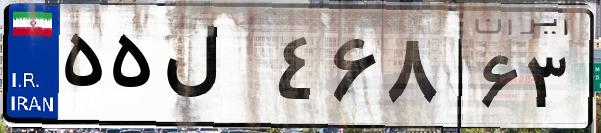3: (525, 38, 570, 115)
4: (270, 28, 330, 110)
5: (57, 26, 110, 100), (110, 28, 158, 98)
6: (330, 28, 385, 110), (475, 38, 525, 113)
8: (385, 28, 445, 110)
ل: (158, 20, 270, 120)
